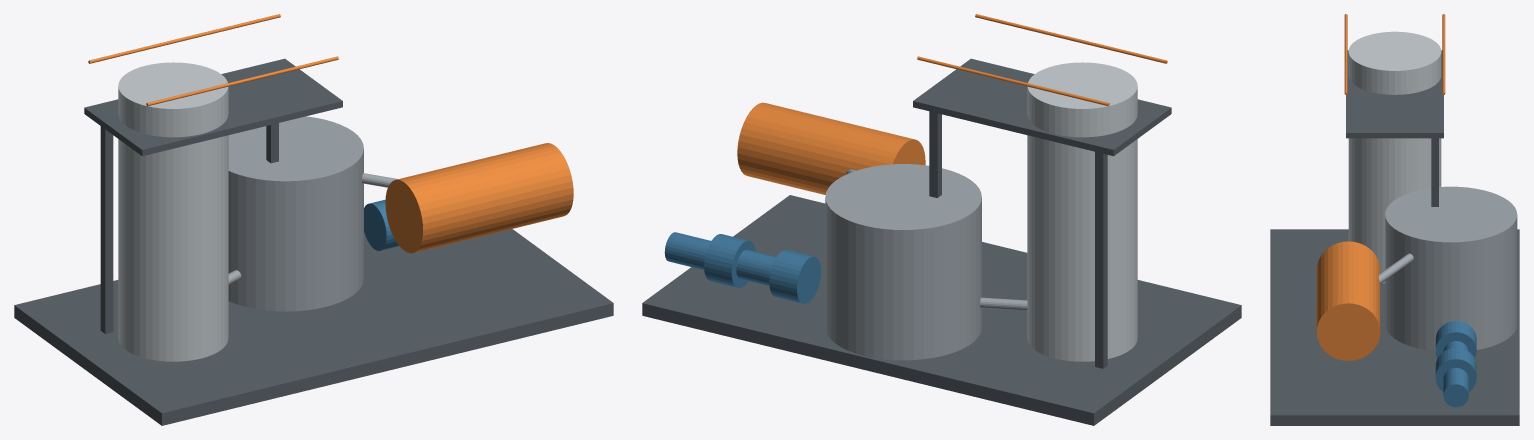
The model's file is ELUTION-SKID.glb.
The picture shows the model from 3 angles, left to right: view 1: azimuth 30°, elevation 25°; view 2: azimuth 150°, elevation 25°; view 3: azimuth 270°, elevation 25°; orthographic projection. The views are drawn at different scales.
Visible parts, largest first — view 1: ELUTION-SKID_BASE, ELUTION-SKID_COLUMN, ELUTION-SKID_SOLUTION_TANK, ELUTION-SKID_HEAT_EXCHANGER, ELUTION-SKID_PLATFORM, ELUTION-SKID_PLATFORM_LEG_112.35, ELUTION-SKID_PUMP_118.2, ELUTION-SKID_RAIL_-1.0, ELUTION-SKID_RAIL_1.0; view 2: ELUTION-SKID_BASE, ELUTION-SKID_SOLUTION_TANK, ELUTION-SKID_COLUMN, ELUTION-SKID_HEAT_EXCHANGER, ELUTION-SKID_PLATFORM, ELUTION-SKID_PLATFORM_LEG_112.35, ELUTION-SKID_PUMP_118.2, ELUTION-SKID_PUMP_119.5, ELUTION-SKID_PUMP_MOTOR_119.5, ELUTION-SKID_PLATFORM_LEG_115.65, ELUTION-SKID_PUMP_MOTOR_118.2, ELUTION-SKID_RAIL_1.0 (+1 smaller); view 3: ELUTION-SKID_BASE, ELUTION-SKID_SOLUTION_TANK, ELUTION-SKID_COLUMN, ELUTION-SKID_HEAT_EXCHANGER, ELUTION-SKID_PLATFORM, ELUTION-SKID_PUMP_119.5, ELUTION-SKID_PUMP_118.2, ELUTION-SKID_PUMP_MOTOR_119.5, ELUTION-SKID_PLATFORM_LEG_115.65, ELUTION-SKID_PROCESS_B, ELUTION-SKID_RAIL_1.0, ELUTION-SKID_RAIL_-1.0.
Boxes of the visible parts, x1=… form: ELUTION-SKID_BASE: x1=14, y1=229, x2=613, y2=425; ELUTION-SKID_COLUMN: x1=118, y1=62, x2=228, y2=361; ELUTION-SKID_SOLUTION_TANK: x1=228, y1=116, x2=363, y2=311; ELUTION-SKID_HEAT_EXCHANGER: x1=385, y1=143, x2=573, y2=253; ELUTION-SKID_PLATFORM: x1=84, y1=58, x2=342, y2=156; ELUTION-SKID_PLATFORM_LEG_112.35: x1=100, y1=126, x2=113, y2=333; ELUTION-SKID_PUMP_118.2: x1=364, y1=199, x2=398, y2=250; ELUTION-SKID_RAIL_-1.0: x1=146, y1=56, x2=338, y2=106; ELUTION-SKID_RAIL_1.0: x1=88, y1=14, x2=280, y2=63; ELUTION-SKID_BASE: x1=642, y1=195, x2=1241, y2=425; ELUTION-SKID_SOLUTION_TANK: x1=825, y1=164, x2=981, y2=360; ELUTION-SKID_COLUMN: x1=1027, y1=62, x2=1137, y2=361; ELUTION-SKID_HEAT_EXCHANGER: x1=737, y1=102, x2=925, y2=194; ELUTION-SKID_PLATFORM: x1=913, y1=58, x2=1171, y2=156; ELUTION-SKID_PLATFORM_LEG_112.35: x1=1095, y1=152, x2=1107, y2=368; ELUTION-SKID_PUMP_118.2: x1=769, y1=250, x2=821, y2=303; ELUTION-SKID_PUMP_119.5: x1=704, y1=234, x2=755, y2=287; ELUTION-SKID_PUMP_MOTOR_119.5: x1=664, y1=232, x2=710, y2=269; ELUTION-SKID_PLATFORM_LEG_115.65: x1=929, y1=111, x2=941, y2=197; ELUTION-SKID_PUMP_MOTOR_118.2: x1=736, y1=249, x2=776, y2=285; ELUTION-SKID_RAIL_1.0: x1=917, y1=56, x2=1109, y2=106; ELUTION-SKID_BASE: x1=1270, y1=229, x2=1519, y2=425; ELUTION-SKID_SOLUTION_TANK: x1=1385, y1=186, x2=1517, y2=351; ELUTION-SKID_COLUMN: x1=1348, y1=31, x2=1441, y2=283; ELUTION-SKID_HEAT_EXCHANGER: x1=1316, y1=241, x2=1380, y2=360; ELUTION-SKID_PLATFORM: x1=1346, y1=50, x2=1443, y2=138; ELUTION-SKID_PUMP_119.5: x1=1435, y1=348, x2=1476, y2=391; ELUTION-SKID_PUMP_118.2: x1=1435, y1=321, x2=1476, y2=358; ELUTION-SKID_PUMP_MOTOR_119.5: x1=1443, y1=368, x2=1468, y2=407; ELUTION-SKID_PLATFORM_LEG_115.65: x1=1431, y1=138, x2=1438, y2=206; ELUTION-SKID_PROCESS_B: x1=1378, y1=253, x2=1413, y2=283; ELUTION-SKID_RAIL_1.0: x1=1442, y1=14, x2=1445, y2=94; ELUTION-SKID_RAIL_-1.0: x1=1344, y1=14, x2=1347, y2=94.
Bounding box in the file's own units: 9.15 × 5.38 × 5.1.
